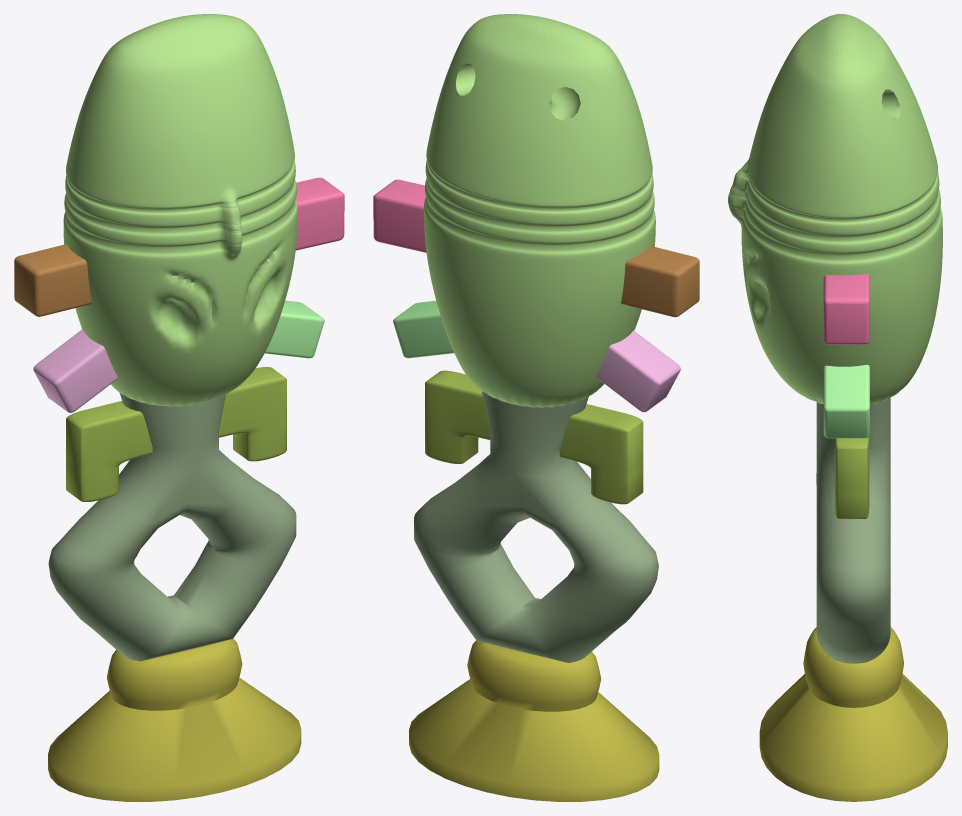
The picture shows the model from 3 angles, left to right: view 1: azimuth 30°, elevation 25°; view 2: azimuth 150°, elevation 25°; view 3: azimuth 270°, elevation 25°; orthographic projection. The views are drawn at different scales.
Visible parts, largest first — view 1: Object_12, Object_16, Object_18, Object_14, Object_6, Object_8, Object_4, Object_10; view 2: Object_12, Object_16, Object_18, Object_14, Object_6, Object_8, Object_4, Object_10; view 3: Object_12, Object_18, Object_16, Object_10, Object_4, Object_14.
Part boxes in pixels (left/top/right/bottom): Object_12: left=63, top=14, right=297, bottom=406; Object_16: left=48, top=393, right=296, bottom=661; Object_18: left=48, top=638, right=301, bottom=801; Object_14: left=66, top=367, right=286, bottom=501; Object_6: left=14, top=244, right=91, bottom=316; Object_8: left=33, top=329, right=117, bottom=412; Object_4: left=295, top=177, right=344, bottom=250; Object_10: left=265, top=300, right=324, bottom=358; Object_12: left=424, top=14, right=655, bottom=407; Object_16: left=414, top=391, right=658, bottom=662; Object_18: left=409, top=640, right=659, bottom=801; Object_14: left=425, top=370, right=643, bottom=504; Object_6: left=621, top=246, right=699, bottom=317; Object_8: left=596, top=330, right=680, bottom=412; Object_4: left=373, top=179, right=426, bottom=252; Object_10: left=393, top=300, right=453, bottom=358; Object_12: left=728, top=14, right=942, bottom=404; Object_18: left=759, top=627, right=947, bottom=801; Object_16: left=816, top=398, right=890, bottom=663; Object_10: left=823, top=364, right=869, bottom=438; Object_4: left=823, top=274, right=869, bottom=344; Object_14: left=835, top=436, right=869, bottom=518.
Bounding box in the file's own units: 0.4382 × 1 × 0.2779.
